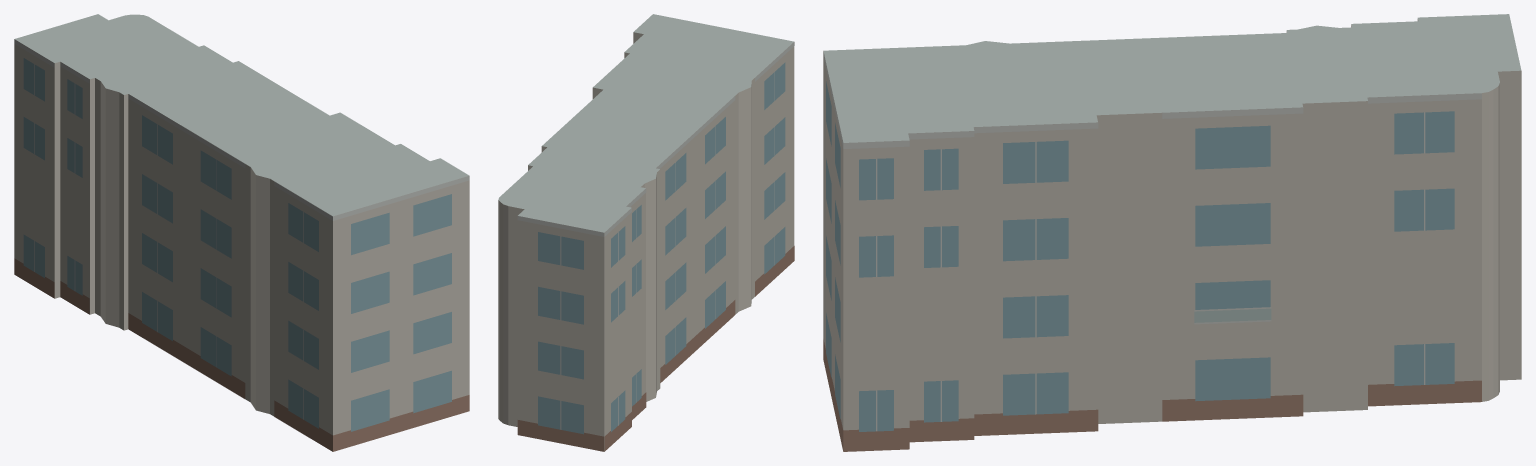
File: survey-upis-32565076.glb
3 renders of one model, left to right at view 1: azimuth 30°, elevation 25°; view 2: azimuth 150°, elevation 25°; view 3: azimuth 270°, elevation 25°, orthographic. The views are drawn at different scales.
Visible parts, largest first — view 1: survey-upis-32565076.tmp; view 2: survey-upis-32565076.tmp; view 3: survey-upis-32565076.tmp.
Part boxes in pixels (<box>): survey-upis-32565076.tmp: <box>14,14,469,451</box>; survey-upis-32565076.tmp: <box>498,14,794,451</box>; survey-upis-32565076.tmp: <box>823,14,1521,451</box>.
Bounding box in the file's own units: 11.03 × 12.3 × 25.2.
